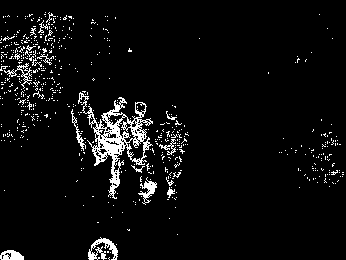person: (124, 102, 157, 204), (158, 104, 189, 202), (99, 96, 128, 198), (72, 88, 108, 164)
